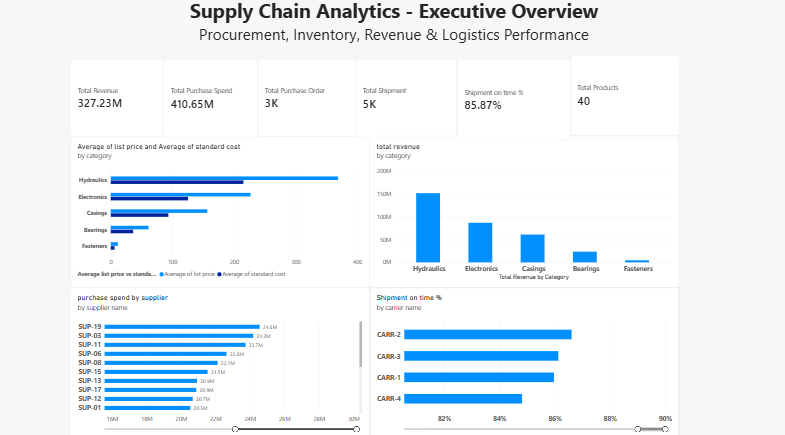

What the dashboard file says about the page in this screenshot:
{"tool":"powerbi","page":{"name":"Executive Overview","canvas":[1920,1080],"ordinal":0},"visuals":[{"type":"cardVisual","fields":{"Data":["product_clean.total_Products"]},"box":[1393.3,143.3,266.7,196.7],"z":0},{"type":"clusteredBarChart","fields":{"Category":["product_clean.category"],"Y":["Avg(product_clean.list_price)","Avg(product_clean.standard_cost)"]},"box":[173.3,340,730,370],"z":1000},{"type":"cardVisual","fields":{"Data":["carrier_clean.total_purchase_order"]},"box":[630,150,240,190],"z":2000},{"type":"cardVisual","fields":{"Data":["shipment_clean.Total_shipment"]},"box":[870,150,246.7,193.3],"z":3000},{"type":"cardVisual","fields":{"Data":["shipment_line_clean.total_revenue"]},"box":[173.3,150,226.7,190],"z":4000},{"type":"textbox","box":[330,0,1265,140],"z":5000},{"type":"clusteredColumnChart","fields":{"Category":["product_clean.category"],"Y":["shipment_line_clean.total_revenue"]},"box":[903.3,340,756.7,370],"z":6000},{"type":"cardVisual","fields":{"Data":["purchase_order_line_clean.Total Purchase Spend"]},"box":[400,150,230,193.3],"z":7000},{"type":"clusteredBarChart","fields":{"Category":["supplier_clean.supplier_name"],"Y":["purchase_order_line_clean.Total Purchase Spend"]},"box":[173.3,710,730,370],"z":8000},{"type":"cardVisual","fields":{"Data":["shipment_clean.Shipment on time %"]},"box":[1116.7,150,276.7,200],"z":9000},{"type":"clusteredBarChart","fields":{"Category":["carrier_clean.carrier_name"],"Y":["shipment_clean.Shipment on time %"]},"box":[903.3,710,756.7,370],"z":10000}]}

Visuals, with their boxes in screenshot pixels (x1, y1, x2, y2), scaled from the page's 1920x1080 canvas onto the 785x435 screenshot:
cardVisual - product_clean.total_Products: 570/58/679/137
clusteredBarChart - product_clean.category x Avg(product_clean.list_price): 71/137/369/286
cardVisual - carrier_clean.total_purchase_order: 258/60/356/137
cardVisual - shipment_clean.Total_shipment: 356/60/457/138
cardVisual - shipment_line_clean.total_revenue: 71/60/164/137
textbox: 135/0/652/56
clusteredColumnChart - product_clean.category x shipment_line_clean.total_revenue: 369/137/679/286
cardVisual - purchase_order_line_clean.Total Purchase Spend: 164/60/258/138
clusteredBarChart - supplier_clean.supplier_name x purchase_order_line_clean.Total Purchase Spend: 71/286/369/434
cardVisual - shipment_clean.Shipment on time %: 457/60/570/141
clusteredBarChart - carrier_clean.carrier_name x shipment_clean.Shipment on time %: 369/286/679/434
